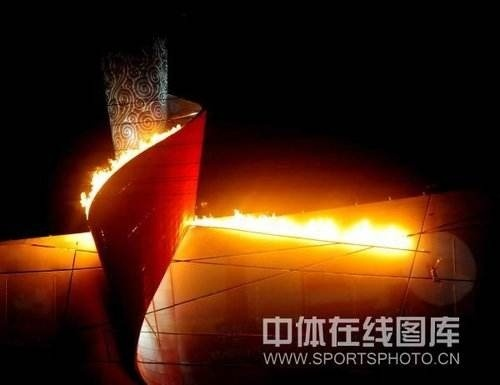fire: (180, 208, 419, 249), (101, 127, 178, 165), (73, 167, 105, 217)
